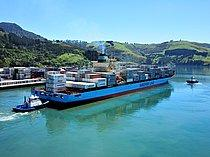Ship: (31, 40, 178, 114)
